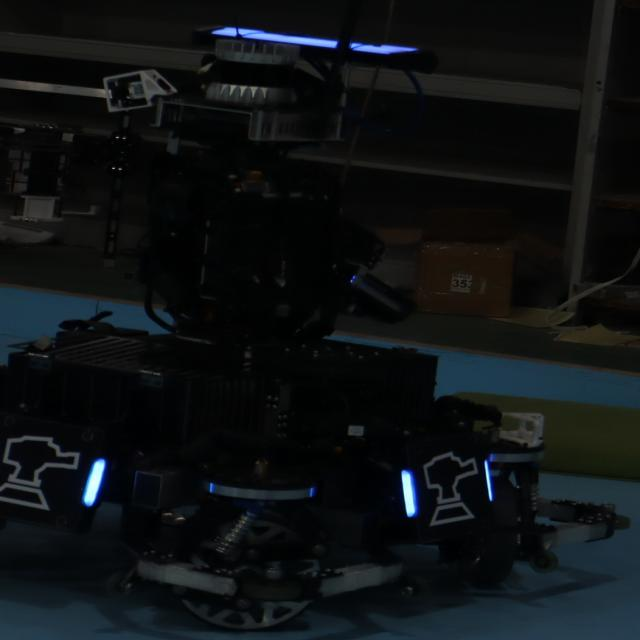Bs: (1, 422, 108, 524), (398, 443, 495, 527)
